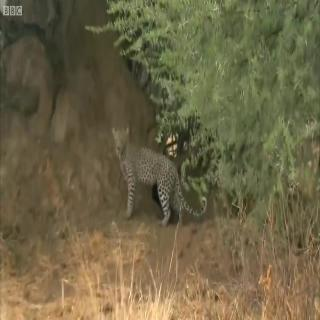Leopard: (107, 115, 198, 237)
